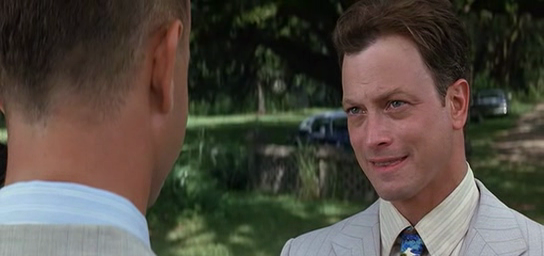cu: (1, 1, 544, 256)
face: (341, 36, 441, 201)
ots: (1, 1, 192, 256)
person: (279, 1, 544, 256)
